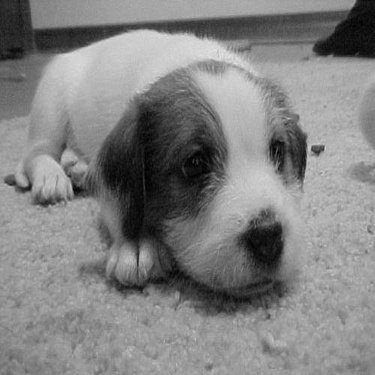dog: (1, 25, 314, 298)
